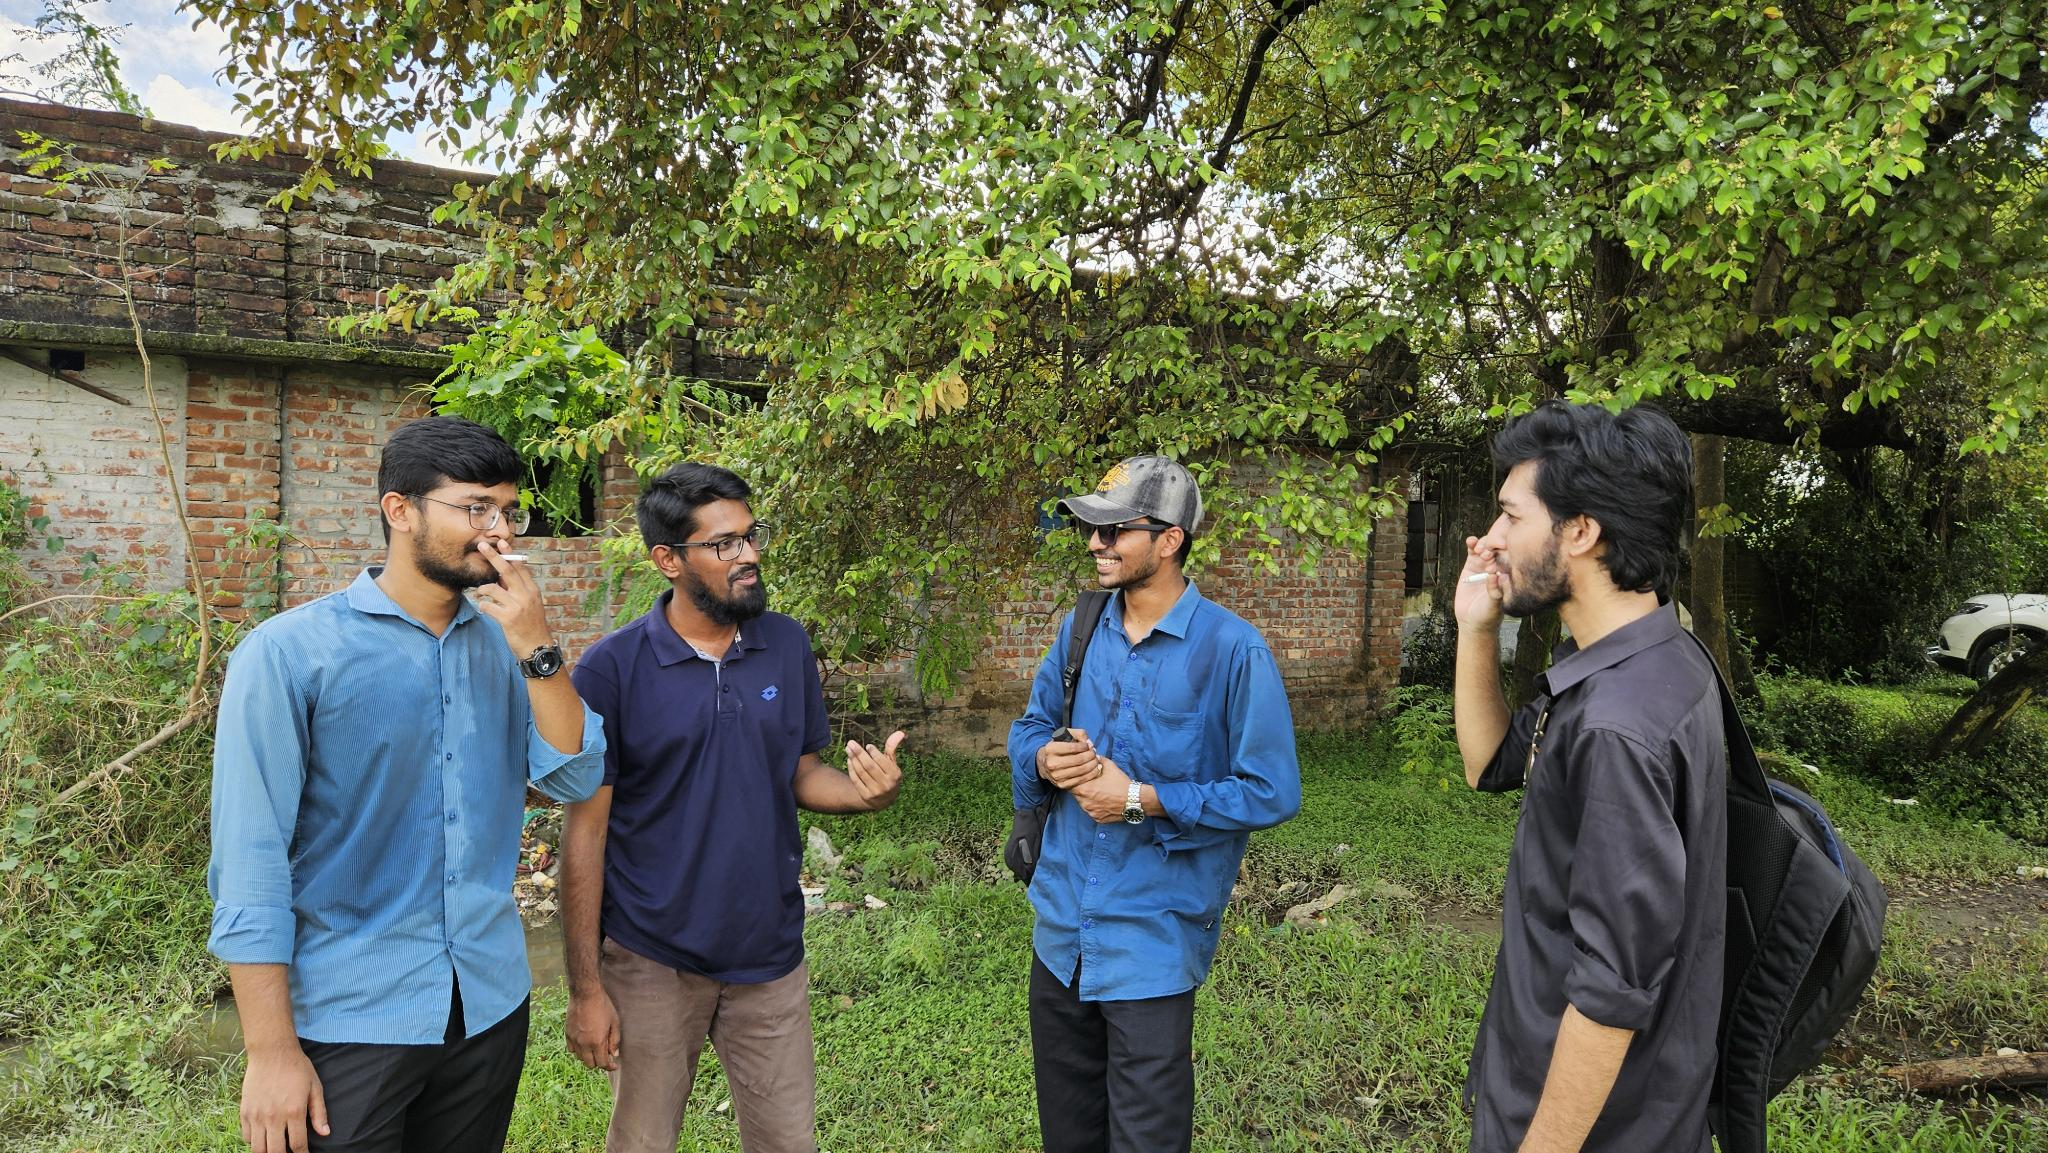cigarette: (1460, 568, 1504, 585), (498, 553, 530, 564)
nonSmoker: (565, 470, 909, 1153), (1010, 450, 1301, 1153)
smoker: (1453, 399, 1889, 1153), (214, 415, 608, 1153)
